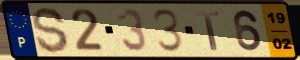2: (69, 7, 107, 53)
3: (114, 7, 148, 54), (152, 7, 185, 54)
6: (232, 9, 264, 53)
S: (30, 6, 71, 55)
T: (193, 9, 222, 52)
